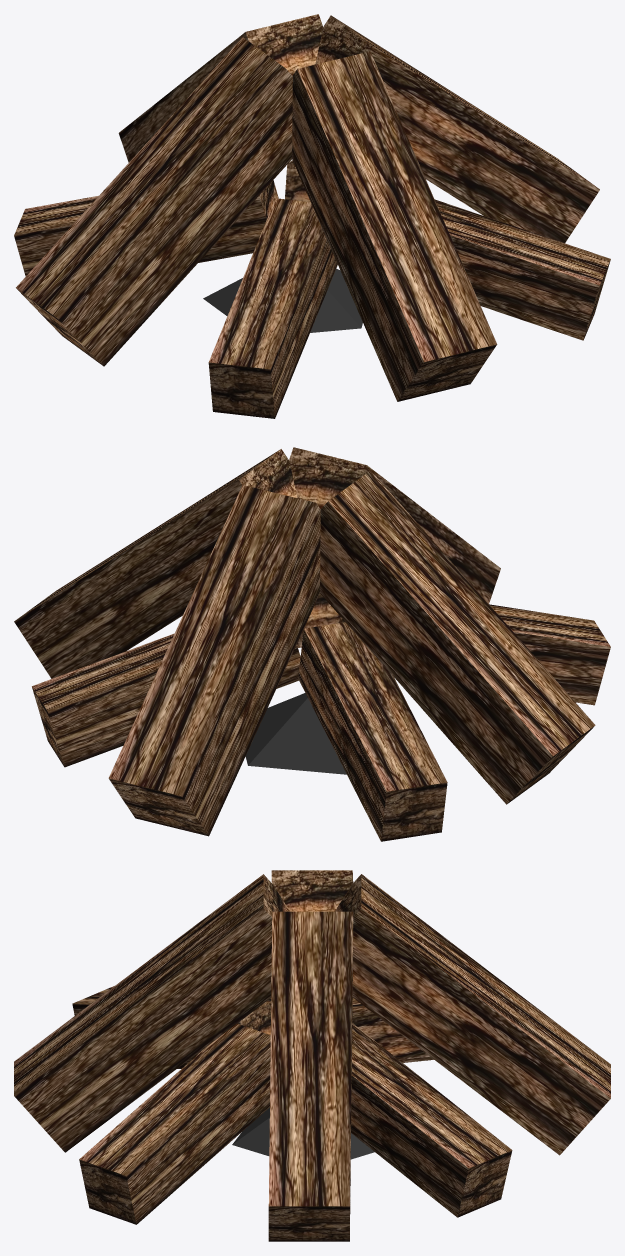
The model's file is campfire.fbx.
The picture shows the model from 3 angles, top to bottom: view 1: azimuth 30°, elevation 25°; view 2: azimuth 150°, elevation 25°; view 3: azimuth 270°, elevation 25°; orthographic projection. The views are drawn at different scales.
Parts seen in each view (by area): view 1: Campfire; view 2: Campfire; view 3: Campfire.
Boxes of the visible parts, box(x1,y1,x2,y2) form: Campfire: box(14, 14, 610, 418); Campfire: box(14, 447, 610, 841); Campfire: box(14, 870, 610, 1241).
Bounding box in the file's own units: 442 × 203 × 442.
